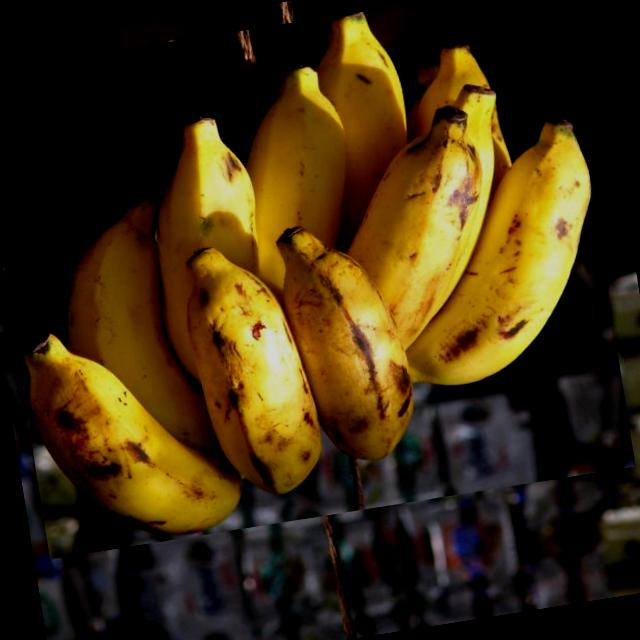Banana: (0, 0, 636, 559)
